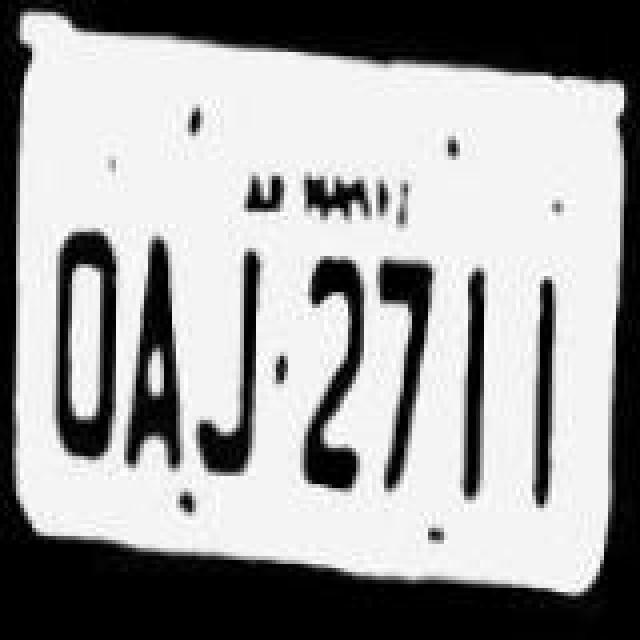1: (514, 260, 570, 536), (442, 254, 498, 514)
2: (288, 254, 368, 490)
7: (364, 252, 444, 496)
A: (116, 220, 188, 484)
J: (188, 224, 268, 480)
O: (44, 212, 124, 468)
